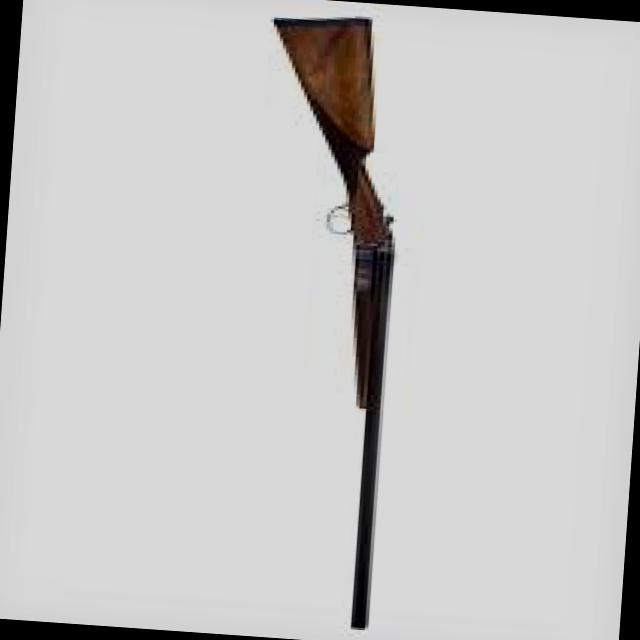long weapon: (260, 9, 394, 635)
